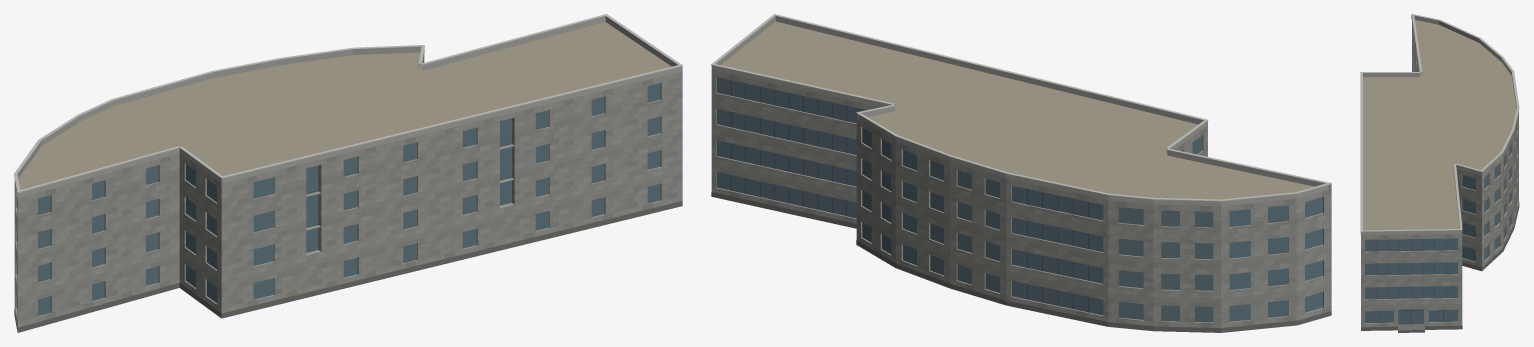
3 renders of one model, left to right at view 1: azimuth 30°, elevation 25°; view 2: azimuth 150°, elevation 25°; view 3: azimuth 270°, elevation 25°, orthographic. The views are drawn at different scales.
Visible parts, largest first — view 1: academic__wall, academic__roof, academic__glass, academic__parapet, academic__trim, academic__base; view 2: academic__wall, academic__roof, academic__glass, academic__parapet, academic__trim, academic__base, academic__frame; view 3: academic__roof, academic__wall, academic__glass, academic__trim, academic__parapet, academic__base, academic__frame.
Part boxes in pixels (left/top/right/bottom): academic__wall: left=14, top=53, right=682, bottom=331; academic__roof: left=18, top=22, right=671, bottom=189; academic__glass: left=17, top=83, right=660, bottom=315; academic__parapet: left=14, top=16, right=682, bottom=198; academic__trim: left=14, top=14, right=682, bottom=193; academic__base: left=14, top=201, right=682, bottom=332; academic__wall: left=711, top=70, right=1331, bottom=327; academic__roof: left=721, top=21, right=1314, bottom=199; academic__glass: left=717, top=77, right=1322, bottom=322; academic__parapet: left=711, top=16, right=1331, bottom=206; academic__trim: left=711, top=14, right=1331, bottom=201; academic__base: left=711, top=192, right=1331, bottom=332; academic__frame: left=731, top=80, right=1088, bottom=312; academic__roof: left=1363, top=20, right=1516, bottom=329; academic__wall: left=1361, top=19, right=1518, bottom=327; academic__glass: left=1365, top=143, right=1511, bottom=324; academic__trim: left=1360, top=14, right=1519, bottom=231; academic__parapet: left=1360, top=15, right=1518, bottom=235; academic__base: left=1361, top=202, right=1519, bottom=332; academic__frame: left=1376, top=239, right=1446, bottom=323.
Size of the model in its own units: 76.41 by 16.7 by 23.62.
Materials: 8 (1 with a texture image).
